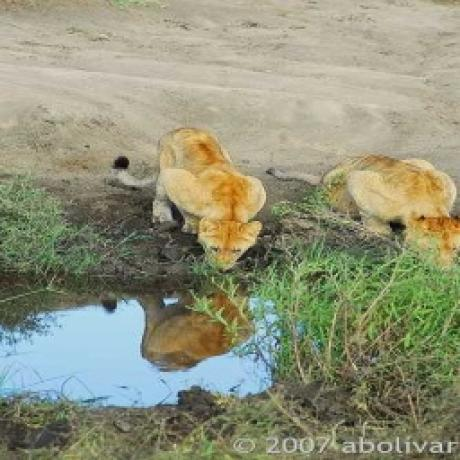Lion: (110, 126, 268, 275), (316, 151, 460, 265)
